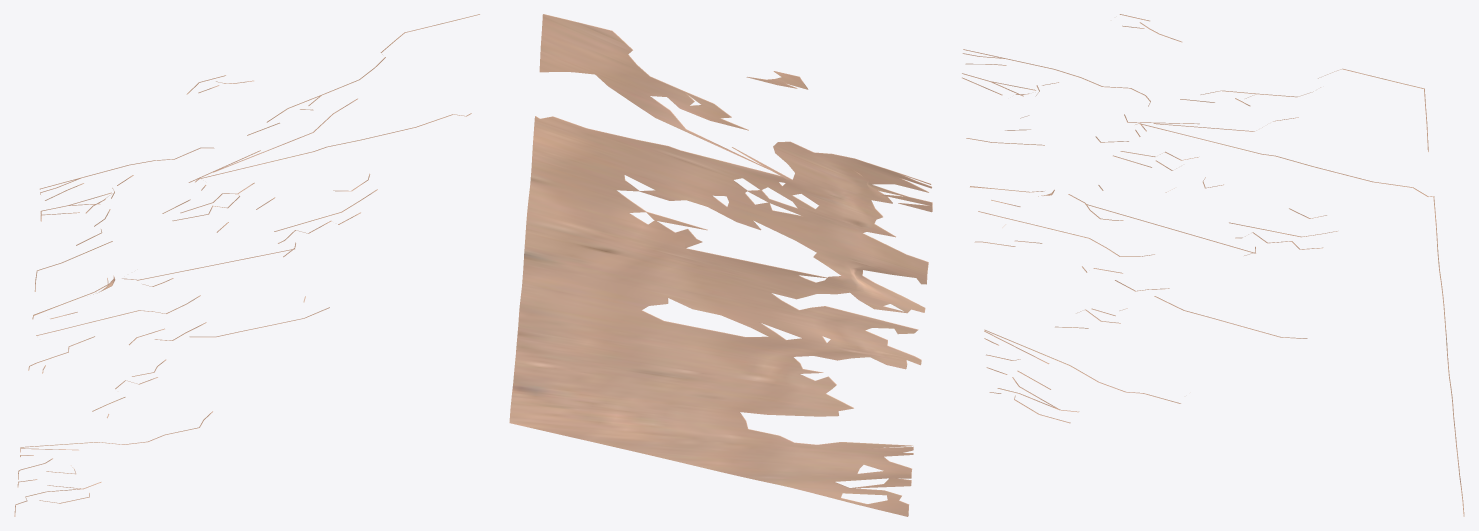
The picture shows the model from 3 angles, left to right: view 1: azimuth 30°, elevation 25°; view 2: azimuth 150°, elevation 25°; view 3: azimuth 330°, elevation 25°; orthographic projection. The views are drawn at different scales.
Bounding box in the file's own units: 27.37 × 25.45 × 4.1.
Materials: 1 (1 with a texture image).
